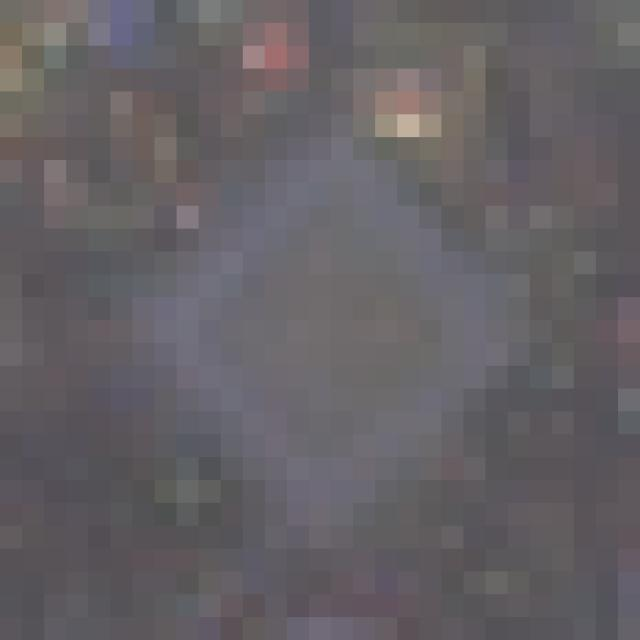Main Road: (112, 115, 509, 527)
